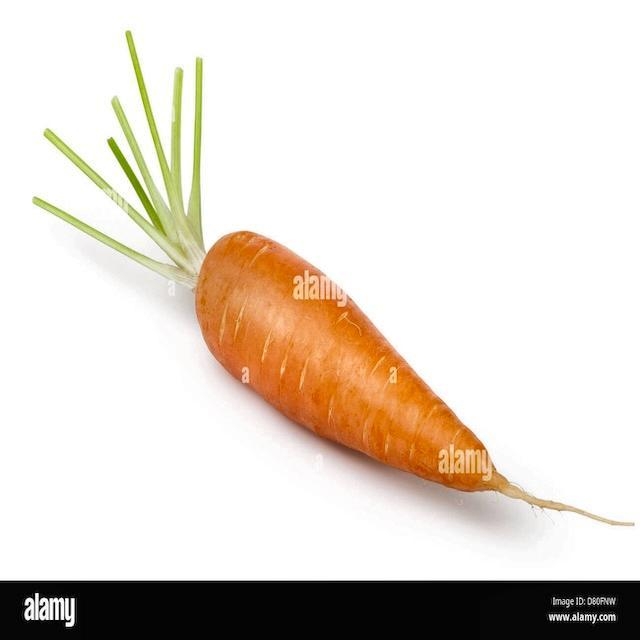carrot: (34, 31, 632, 526)
